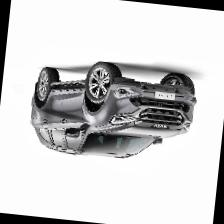NON-EV: (27, 56, 201, 173)
